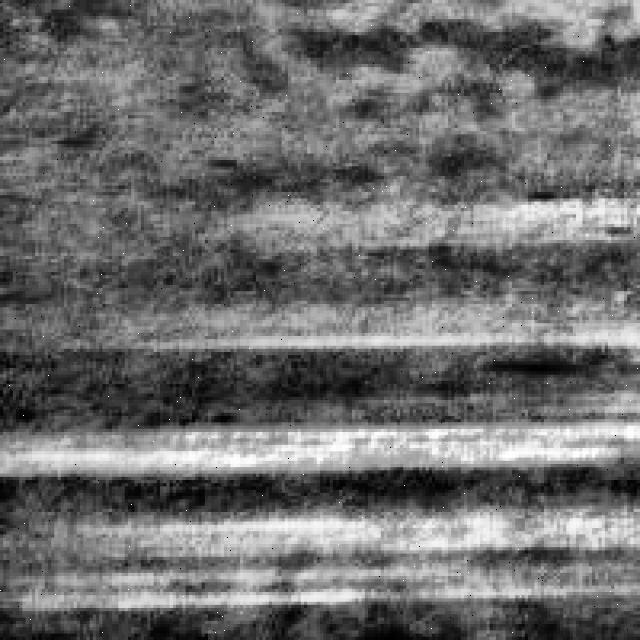Inclusion: (16, 403, 640, 477)
